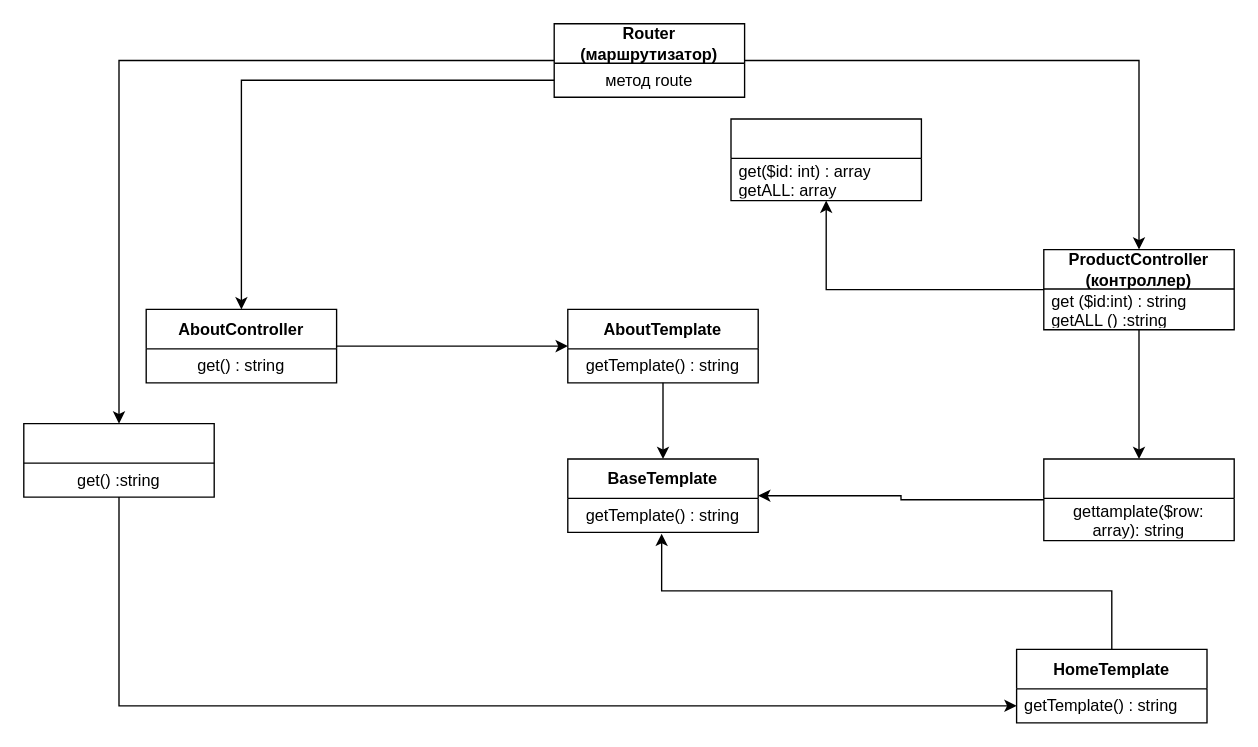
Some shapes in this 1258 by 747 pixel diagram are drawn without their labels. The shapes that lost their labels are listed below. From the top down, each one's box as (x1, y1, x2, y2) in pixels, then its label:
(730, 118, 921, 201): Product (модель)
(22, 422, 214, 497): HomeController (контроллер)
(1042, 458, 1234, 541): ProductTemplate (представление)
